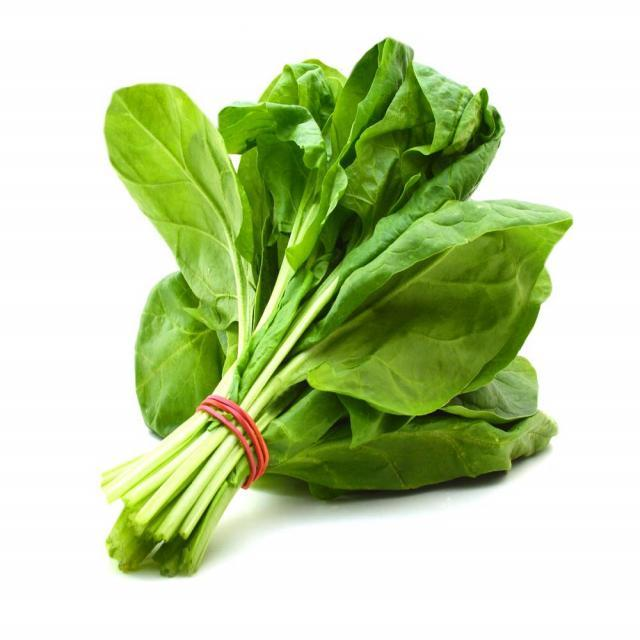Spinach: (92, 24, 570, 586)
